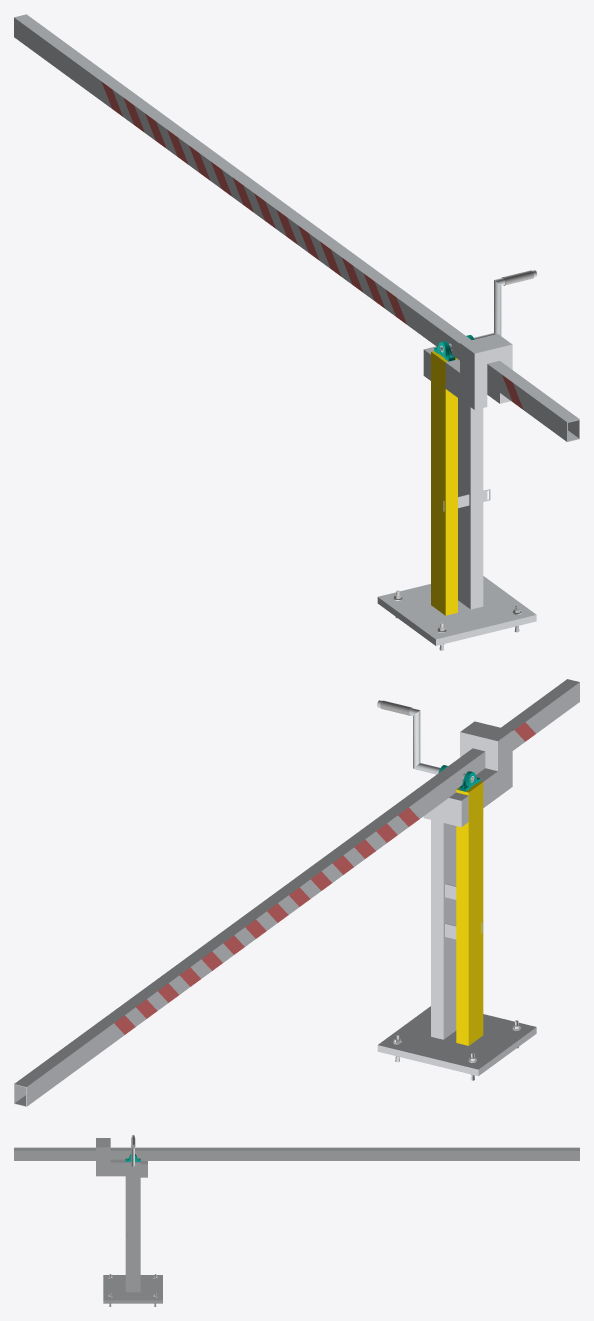
The picture shows the model from 3 angles, top to bottom: view 1: azimuth 30°, elevation 25°; view 2: azimuth 150°, elevation 25°; view 3: azimuth 270°, elevation 25°; orthographic projection. The views are drawn at different scales.
Parts seen in each view (by area): view 1: SketchUp, group_1; view 2: SketchUp, group_1; view 3: SketchUp.
Part boxes in pixels (box(x1,y1,x2,y2)): SketchUp: box(14, 14, 579, 645); group_1: box(431, 351, 457, 615); SketchUp: box(14, 679, 579, 1106); group_1: box(456, 781, 483, 1045); SketchUp: box(14, 1135, 579, 1303).
Bounding box in the file's own units: 20.09 × 50.03 × 150.
